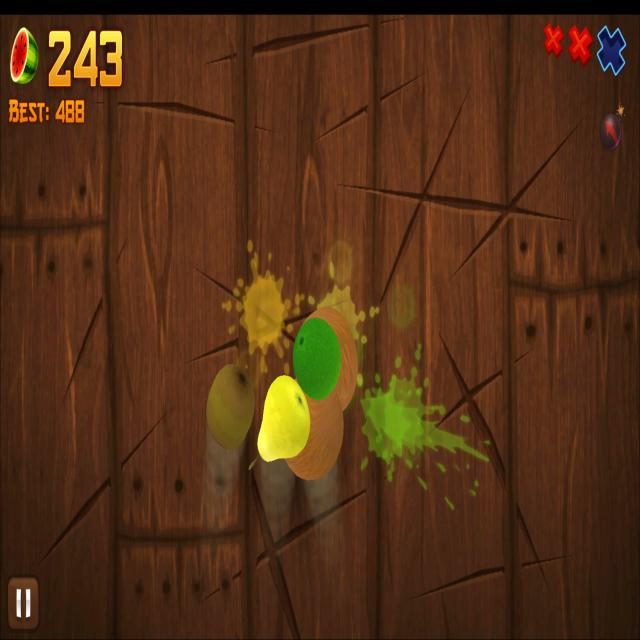fruit: (301, 304, 357, 410), (257, 374, 310, 464), (285, 398, 343, 480), (293, 316, 342, 401), (206, 365, 255, 449)
